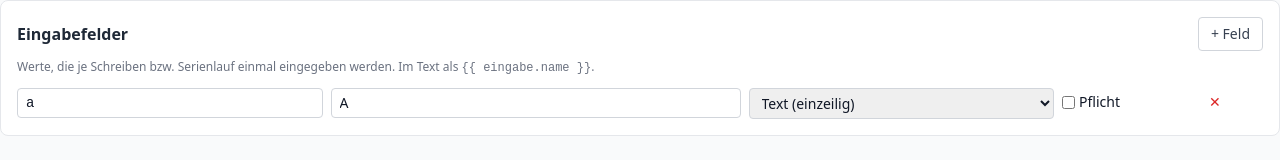
Test: EingabefeldDesigner › entfernt ein Feld
Click the button named "Feld 1 entfernen" at point(1215, 100), box [1166,88,1263,112]
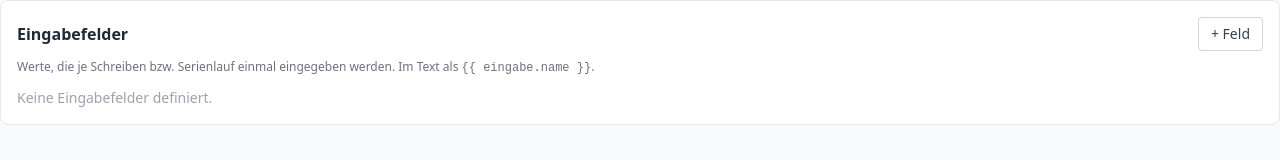
Expected: the text "Keine Eingabefelder definiert." is shown, [17,88,212,107]
